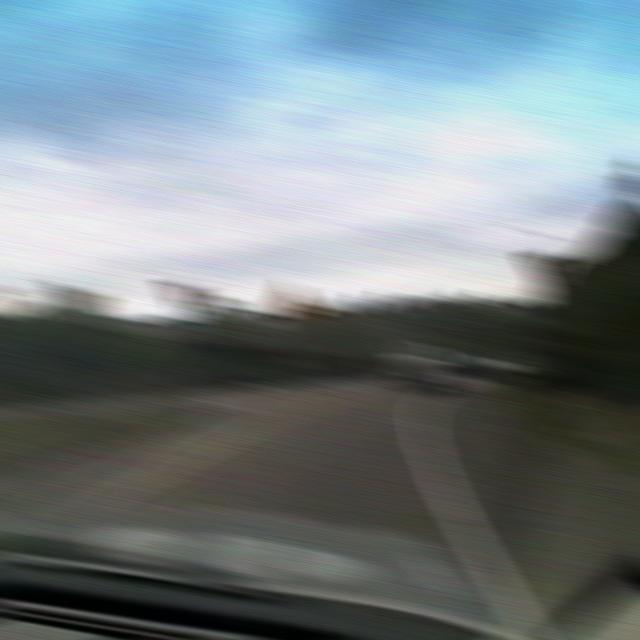yield: (521, 250, 568, 289), (160, 279, 207, 313)
